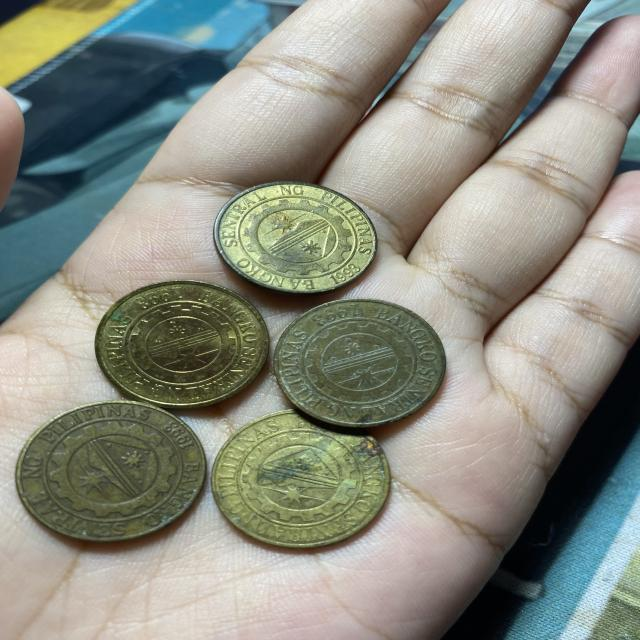25Cent_Old_Back: (17, 409, 193, 548), (210, 417, 390, 545), (268, 301, 443, 432), (94, 281, 266, 408), (224, 180, 370, 293)
